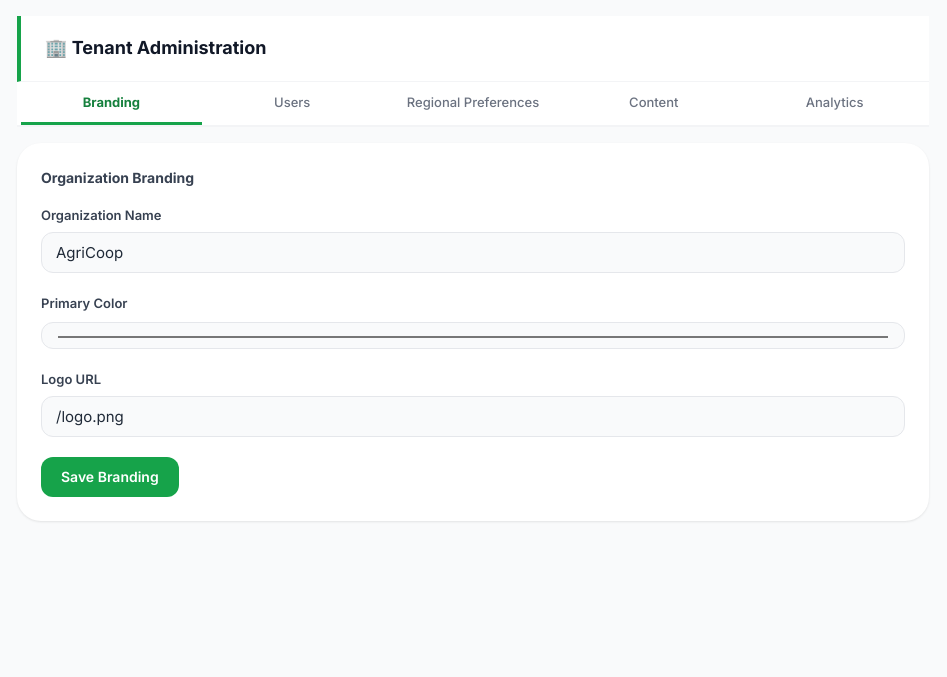
Test: TenantAdminPage › displays user management with add/remove
Check: the element with test id "branding-section" is shown, box [17, 143, 929, 521]
Click the button with test id "tab-users". click: (292, 103)
box: [202, 82, 383, 125]
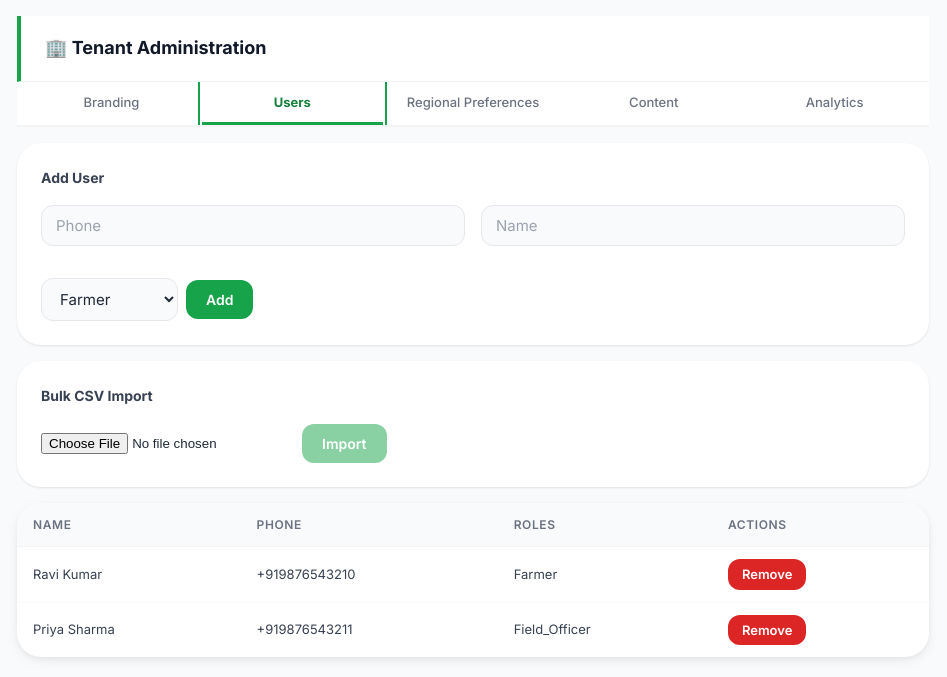
Check: the element with test id "users-section" is shown
Check: the table with test id "users-table" is shown, box [17, 503, 929, 657]
Check: the row with test id "user-row-u1" is shown, box [17, 547, 929, 603]
